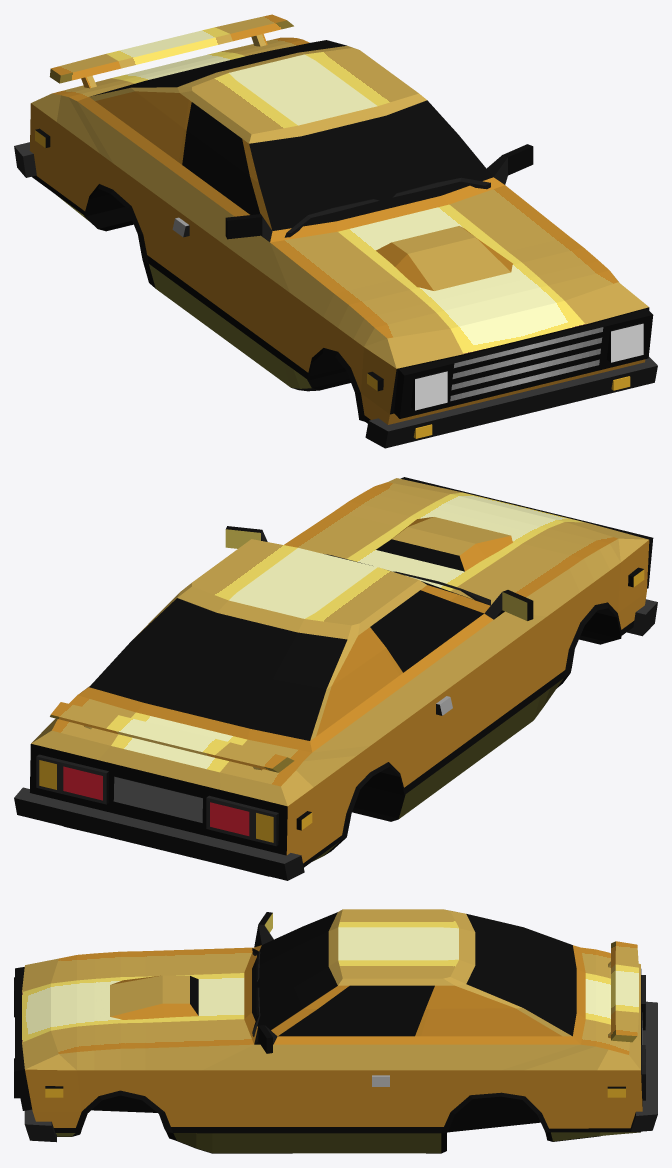
File: SportCar.002.fbx
The picture shows the model from 3 angles, top to bottom: view 1: azimuth 30°, elevation 25°; view 2: azimuth 150°, elevation 25°; view 3: azimuth 270°, elevation 25°; orthographic projection. The views are drawn at different scales.
Parts seen in each view (by area): view 1: SportCar.002; view 2: SportCar.002; view 3: SportCar.002.
Part boxes in pixels (x1=…): SportCar.002: x1=14, y1=14, x2=657, y2=448; SportCar.002: x1=14, y1=477, x2=657, y2=880; SportCar.002: x1=14, y1=909, x2=657, y2=1153.
Bounding box in the file's own units: 1.75 × 1.05 × 3.77.
